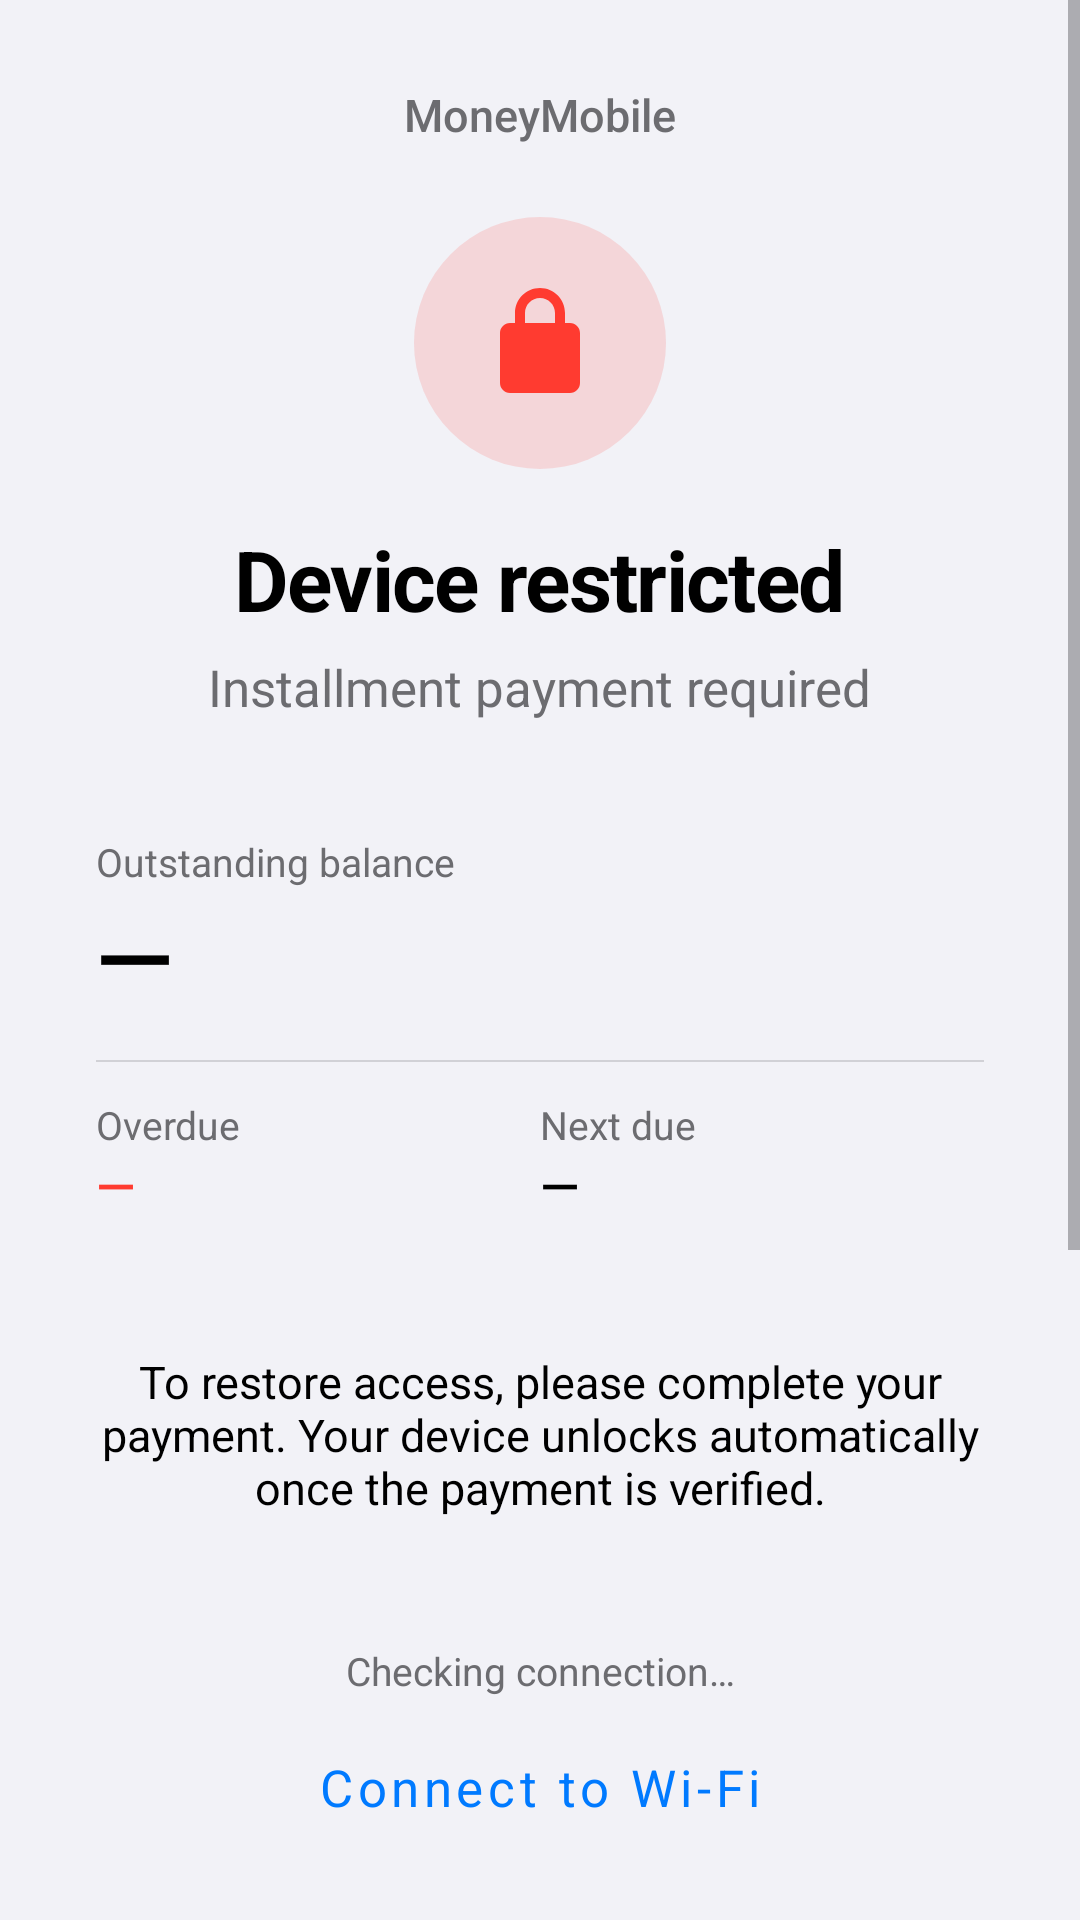

Where icons sit on this 1080×1920 app screen, as bbox(x1, y1, x2, y2):
Phone locked: bbox(414, 217, 666, 469)
